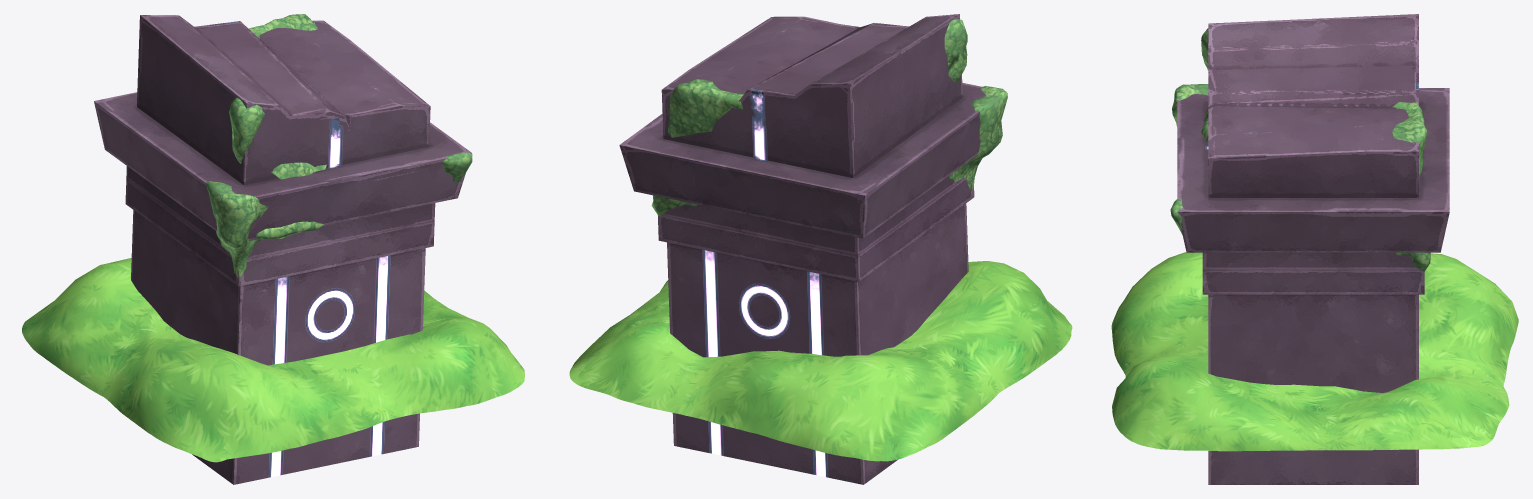
File: Rune_7.fbx
The picture shows the model from 3 angles, left to right: view 1: azimuth 30°, elevation 25°; view 2: azimuth 150°, elevation 25°; view 3: azimuth 270°, elevation 25°; orthographic projection. The views are drawn at different scales.
Parts seen in each view (by area): view 1: rune 7 low, rune 7 grass low, rune 7 moss; view 2: rune 7 low, rune 7 grass low, rune 7 moss; view 3: rune 7 low, rune 7 grass low, rune 7 moss.
Boxes of the visible parts, x1,y1,x2,y2 form: rune 7 low: [94, 15, 471, 484]; rune 7 grass low: [22, 258, 524, 462]; rune 7 moss: [206, 14, 472, 278]; rune 7 low: [619, 14, 985, 484]; rune 7 grass low: [569, 261, 1072, 461]; rune 7 moss: [651, 19, 1007, 216]; rune 7 low: [1177, 14, 1449, 484]; rune 7 grass low: [1111, 252, 1518, 451]; rune 7 moss: [1170, 28, 1430, 271].
Bounding box in the file's own units: 396 × 418 × 398.
Materials: 3 (3 with a texture image).
